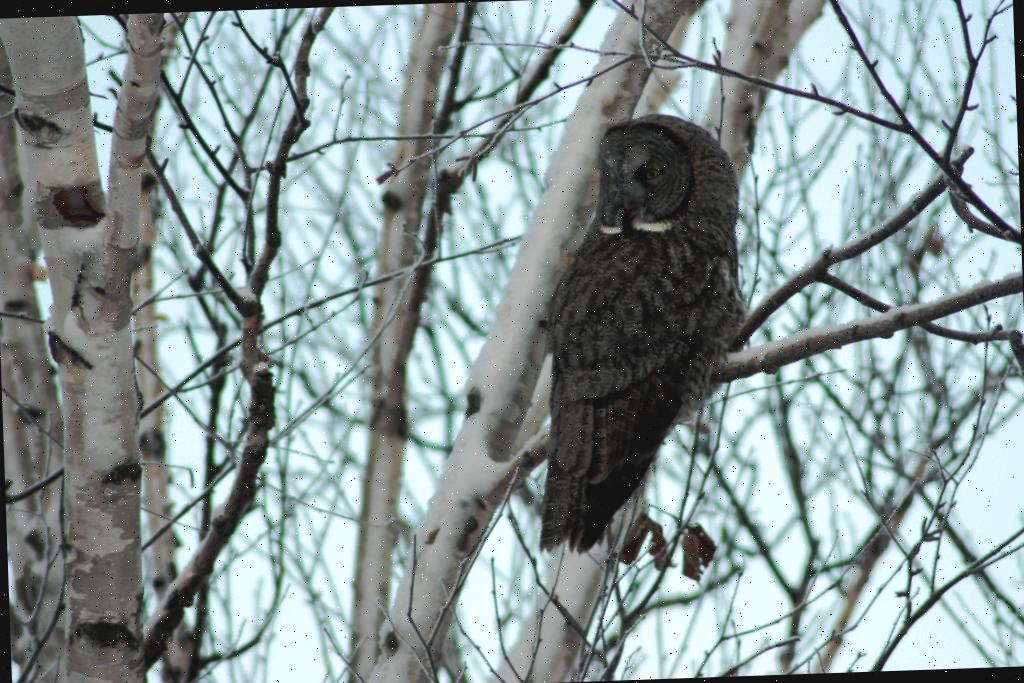Owl: (515, 100, 757, 566)
